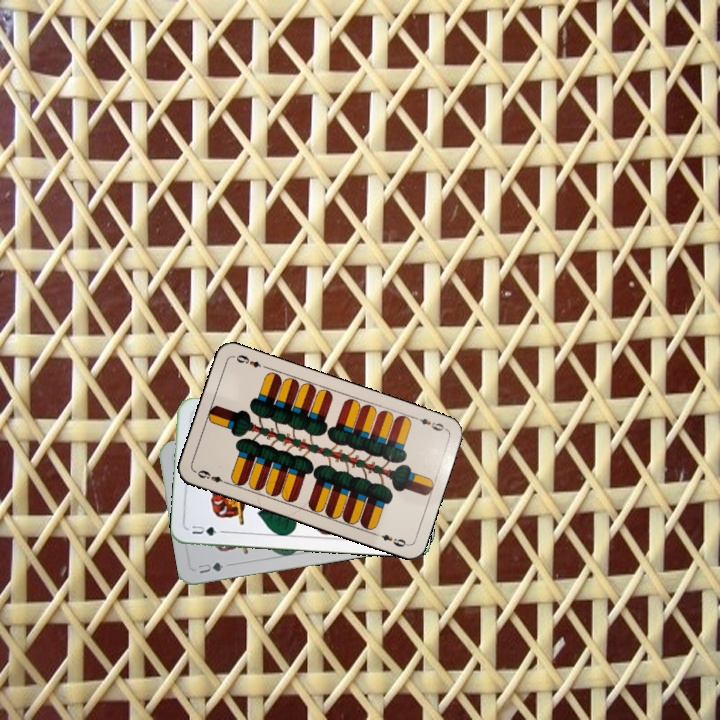E9: (409, 413, 449, 434), (193, 466, 231, 487)
GU: (193, 558, 226, 576), (188, 521, 219, 538)
